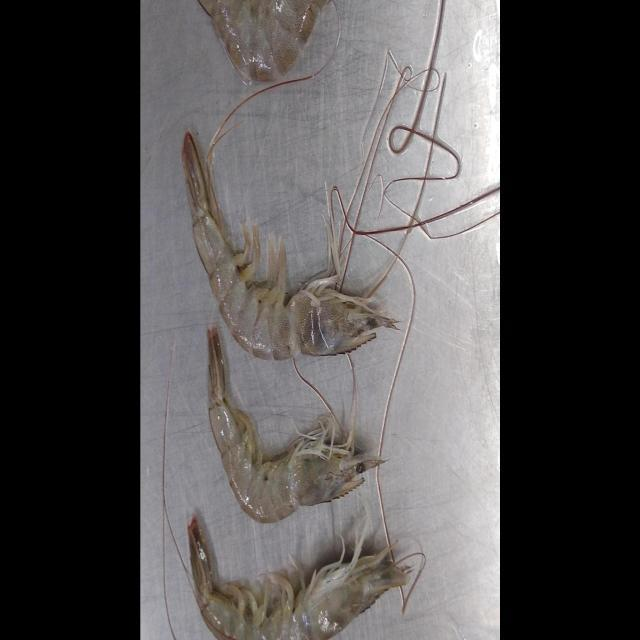shrimp: (181, 131, 396, 360), (206, 327, 384, 522), (188, 516, 410, 640), (197, 0, 329, 82)
